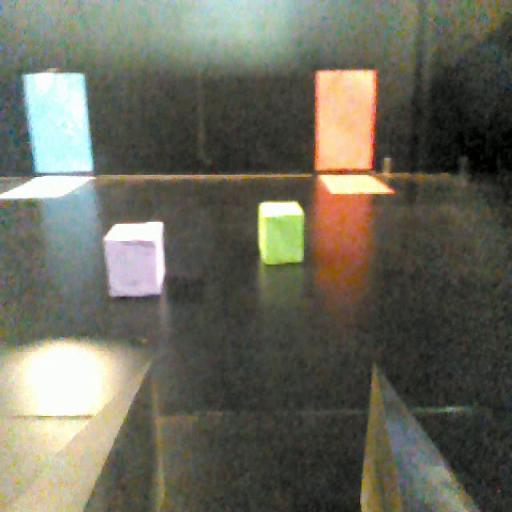cube: (99, 218, 170, 299), (253, 196, 310, 266)
